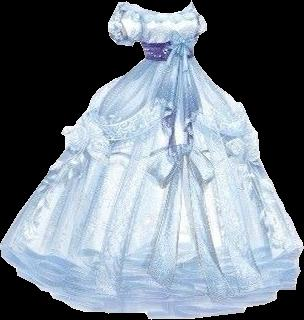Bodice: (135, 4, 200, 60)
Hemline: (45, 62, 182, 177), (1, 242, 299, 276), (180, 63, 267, 177)
Skirt: (0, 58, 303, 318)
Sleeve: (108, 1, 139, 45)
Sleeveline: (117, 1, 141, 17)
Waistline: (144, 55, 195, 63)
